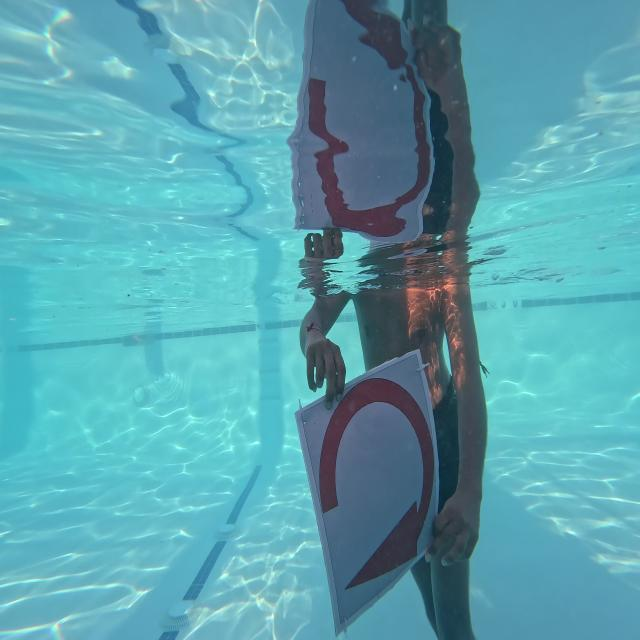red_side: (281, 353, 446, 603)
